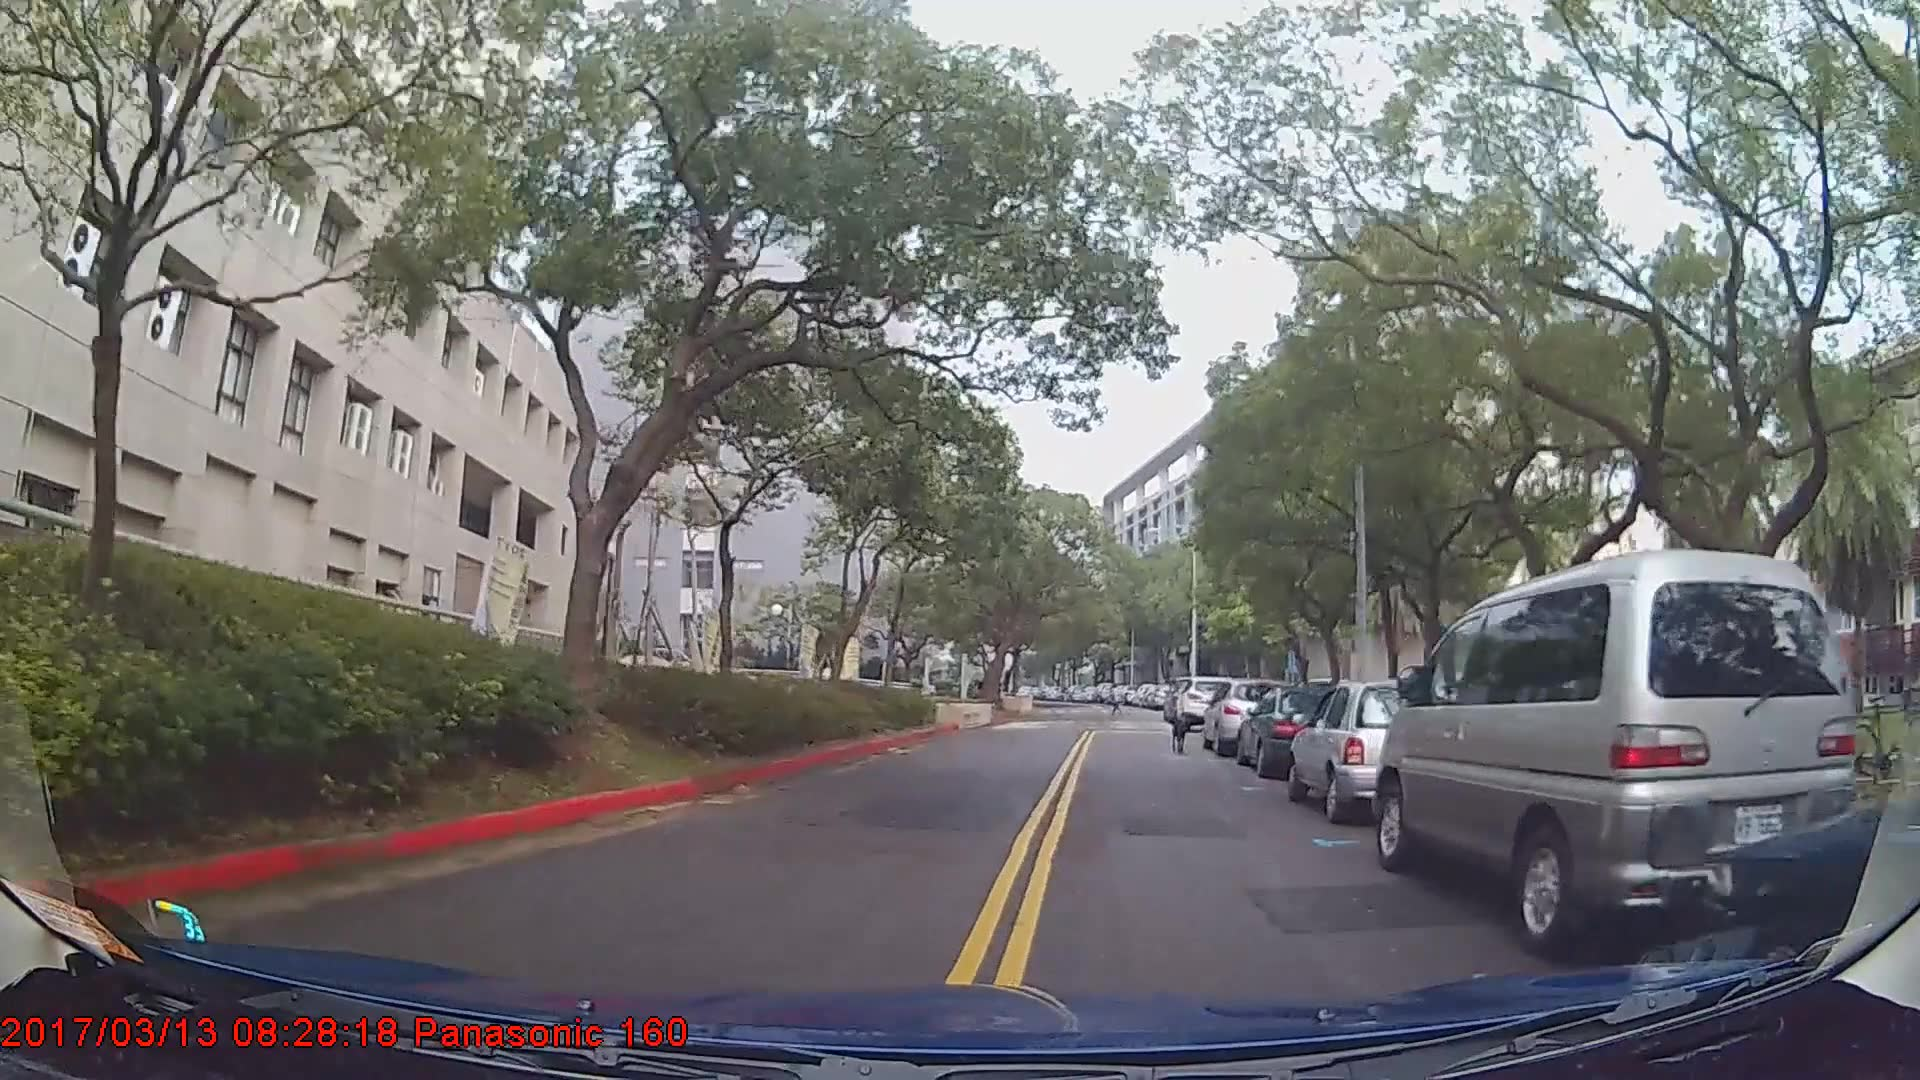vehicle: (1374, 545, 1862, 948), (1693, 782, 1920, 1030), (1286, 679, 1473, 825), (1203, 676, 1294, 754), (1174, 675, 1240, 731)
